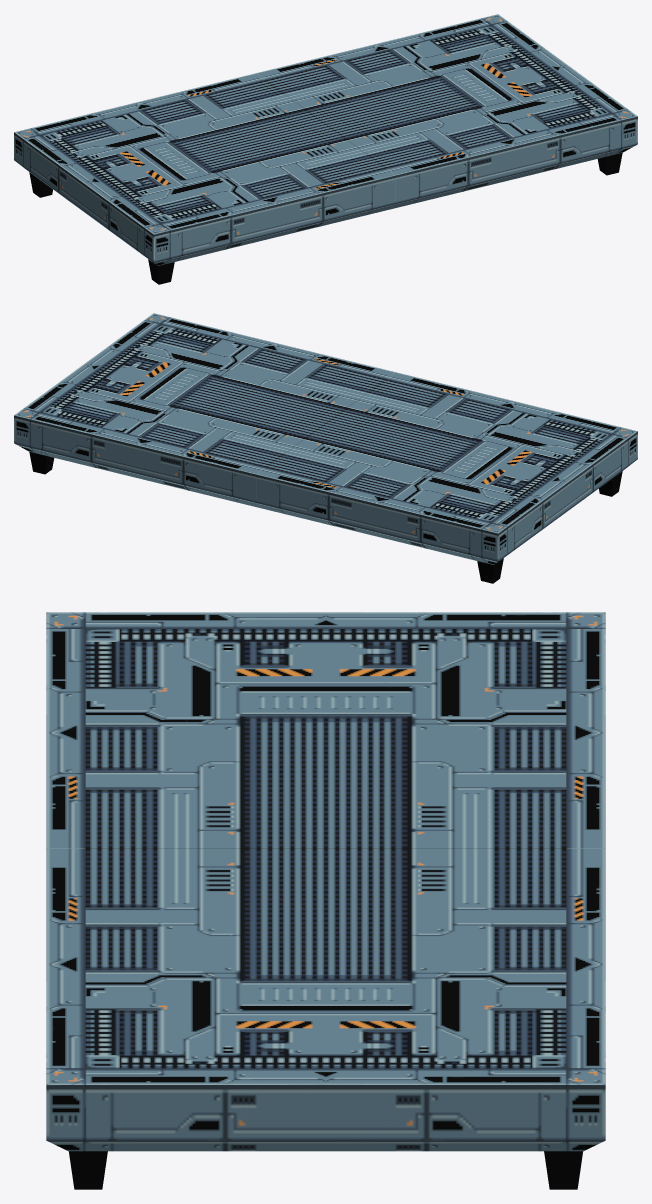
Rendered from FloatingPlatform_2x4_Metal.fbx.
3 views of the same model, one above another, from view 1: azimuth 30°, elevation 25°; view 2: azimuth 150°, elevation 25°; view 3: azimuth 270°, elevation 25° (orthographic). The views are drawn at different scales.
Visible parts, largest first — view 1: Platform, Thrusters; view 2: Platform, Thrusters; view 3: Platform, Thrusters.
Boxes of the visible parts, left/top/right/bottom form: Platform: left=14, top=14, right=637, bottom=265; Thrusters: left=29, top=153, right=622, bottom=284; Platform: left=14, top=313, right=637, bottom=564; Thrusters: left=29, top=452, right=622, bottom=583; Platform: left=46, top=612, right=605, bottom=1151; Thrusters: left=69, top=1151, right=582, bottom=1189.
Bounding box in the file's own units: 100 × 11.5 × 50.
